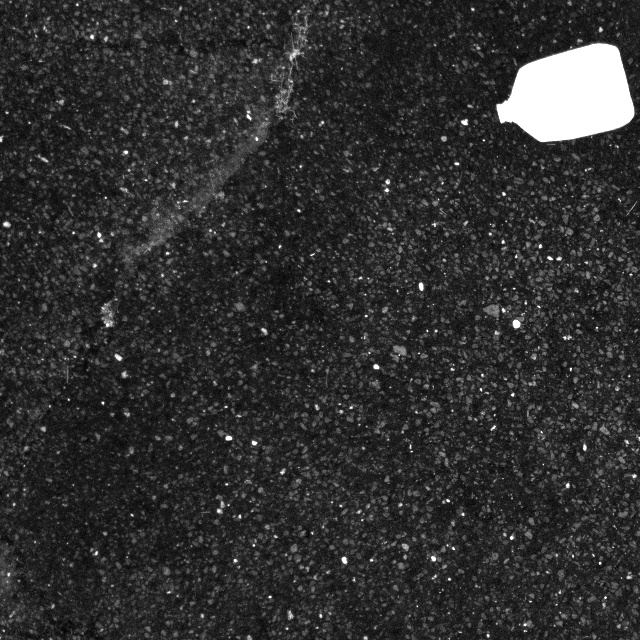can: (488, 36, 638, 153)
